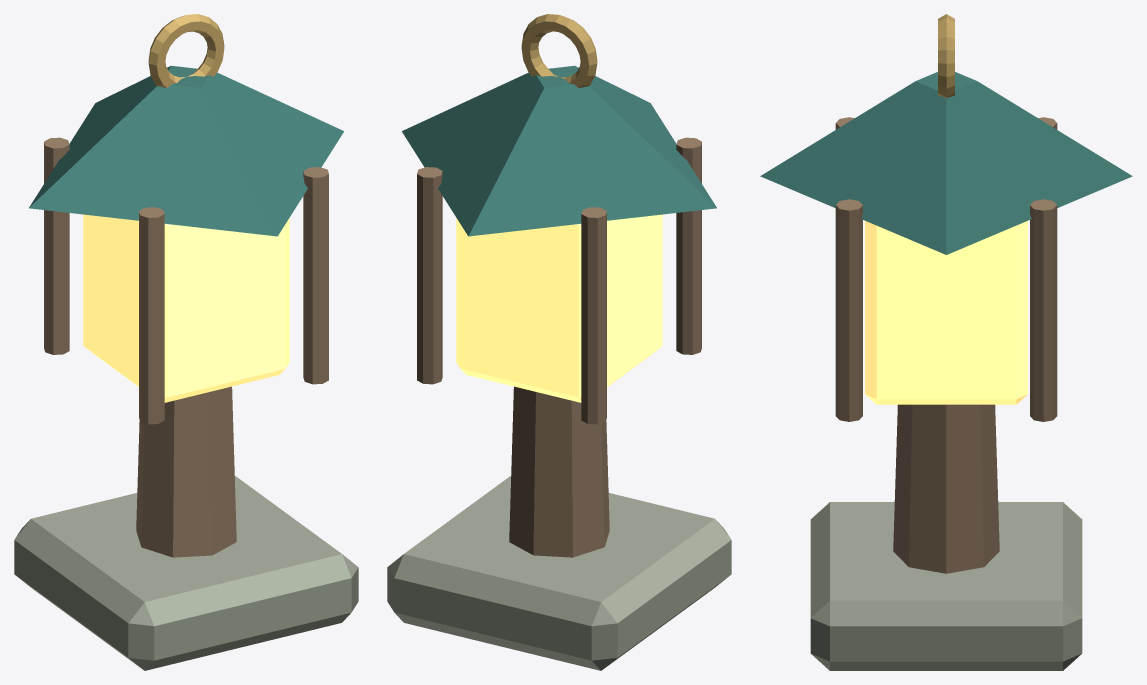
File: qingqiu-lantern.glb
The picture shows the model from 3 angles, left to right: view 1: azimuth 30°, elevation 25°; view 2: azimuth 150°, elevation 25°; view 3: azimuth 270°, elevation 25°; orthographic projection. The views are drawn at different scales.
Visible parts, largest first — view 1: qingqiu-lantern; view 2: qingqiu-lantern; view 3: qingqiu-lantern.
Boxes of the visible parts, x1,y1,x2,y2 form: qingqiu-lantern: (14, 14, 358, 670); qingqiu-lantern: (387, 14, 731, 670); qingqiu-lantern: (760, 14, 1132, 670).
Size of the model in its own units: 0.96 by 1.72 by 0.96.
